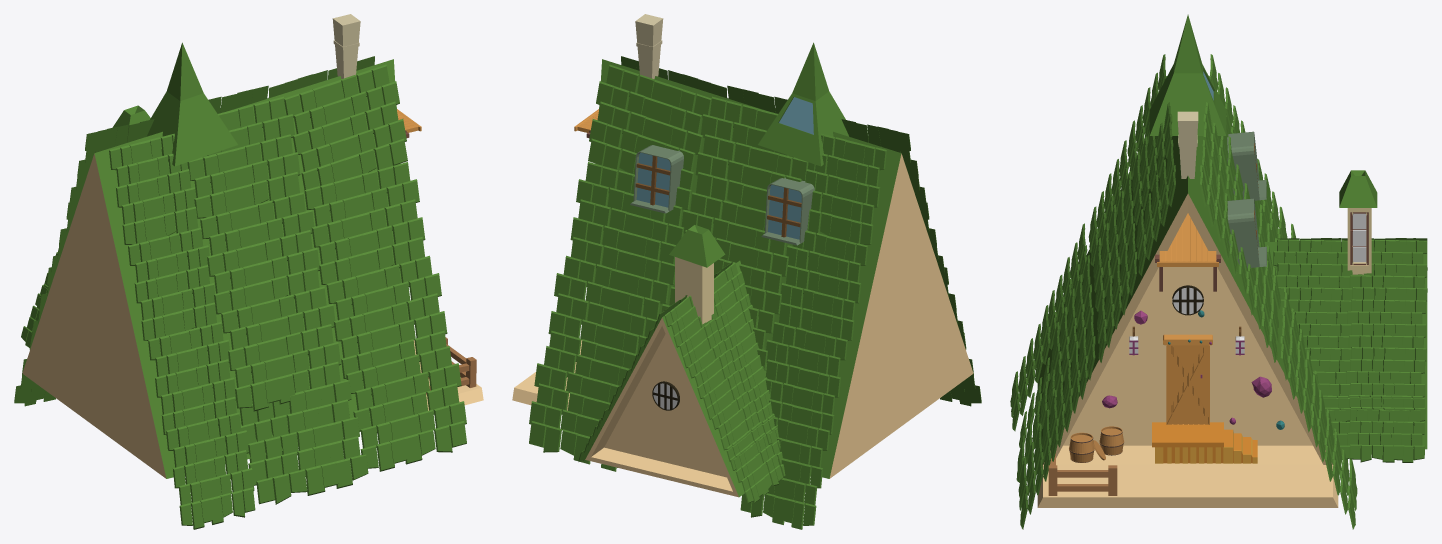
Rendered from tunnelTriangleHouse.fbx.
3 renders of one model, left to right at view 1: azimuth 30°, elevation 25°; view 2: azimuth 150°, elevation 25°; view 3: azimuth 270°, elevation 25°, orthographic. The views are drawn at different scales.
Parts seen in each view (by area): view 1: Plane.003, Cube, Plane.011, Cube.032, Cube.031; view 2: Plane.003, Cube, Plane.009, Cube.001, Cube.032, Cube.018, Cube.019, Cube.033, Cube.031, Cube.034, Cylinder.004; view 3: Cube, Plane.003, Plane.009, Cube.032, Cube.002, Cube.023, Cube.018, Cube.024, Cube.013, Plane.011, Cube.033, Cube.019 (+6 smaller).
Part boxes in pixels (x1,y1,x2,y2): Plane.003: (14,56,466,529); Cube: (22,59,483,478); Plane.011: (239,380,368,504); Cube.032: (147,42,237,166); Cube.031: (332,14,360,78); Plane.003: (529,56,981,529); Cube: (512,59,973,478); Plane.009: (578,262,785,503); Cube.001: (585,260,773,497); Cube.032: (758,42,848,166); Cube.018: (630,145,683,213); Cube.019: (761,177,814,245); Cube.033: (675,257,713,324); Cube.031: (635,14,663,78); Cube.034: (669,225,725,267); Cylinder.004: (652,381,679,410); Cube: (1037,136,1338,507); Plane.003: (1010,54,1357,529); Plane.009: (1273,238,1427,462); Cube.032: (1149,14,1226,135); Cube.002: (1163,334,1212,424); Cube.023: (1155,429,1257,463); Cube.018: (1225,198,1266,268); Cube.024: (1152,422,1223,447); Cube.013: (1157,213,1218,266); Plane.011: (1016,357,1055,482); Cube.033: (1347,208,1371,274); Cube.019: (1227,131,1266,200).
Bounding box in the file's own units: 1165 × 1433 × 1268.
